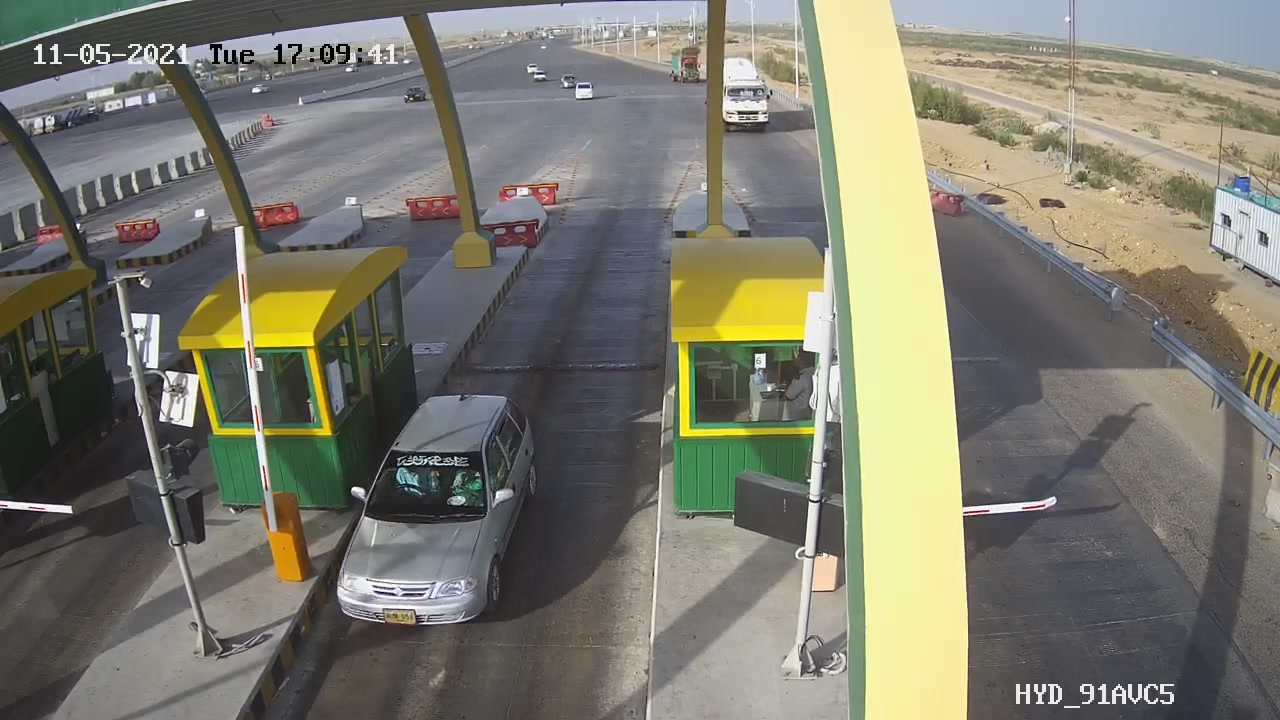F1: (301, 372, 560, 646)
